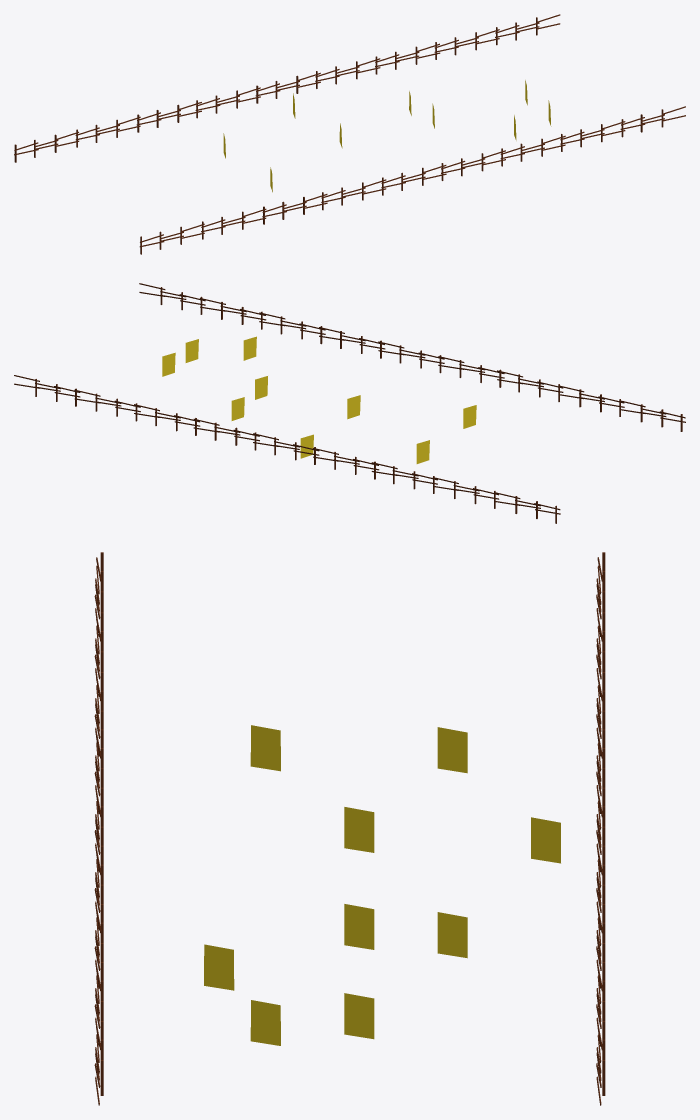
The model's file is farm01.glb.
3 renders of one model, top to bottom at view 1: azimuth 30°, elevation 25°; view 2: azimuth 150°, elevation 25°; view 3: azimuth 270°, elevation 25°, orthographic. The views are drawn at different scales.
Visible parts, largest first — view 1: Farm01; view 2: Farm01; view 3: Farm01.
Boxes of the visible parts, box(x1,y1,x2,y2) form: Farm01: box(14, 14, 685, 254); Farm01: box(14, 283, 685, 523); Farm01: box(94, 552, 605, 1105).
Size of the model in its own units: 17.92 by 0.8765 by 7.26.
